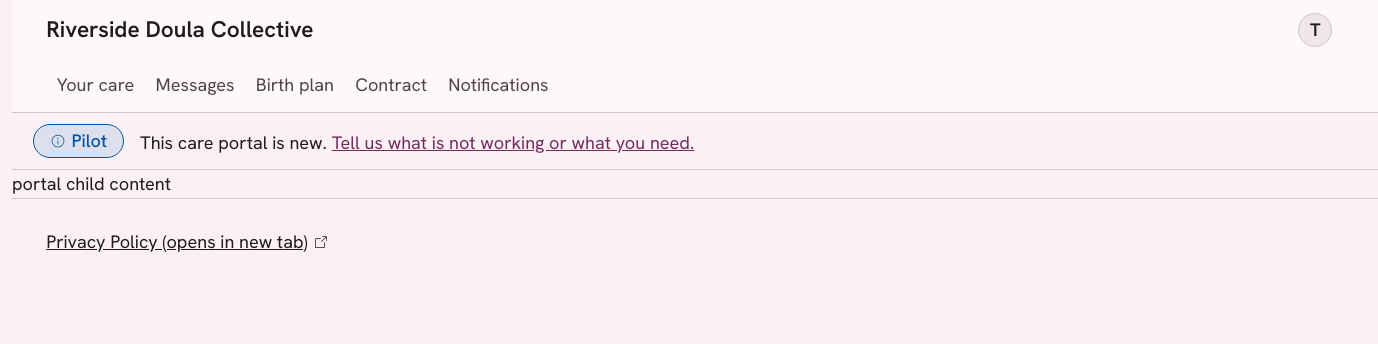
Client portal authenticated layout › stays put and reports a sign-out that failed
Click the button named "Your account, Tasha Bell".
click(1315, 30)  # box [1287, 7, 1344, 53]
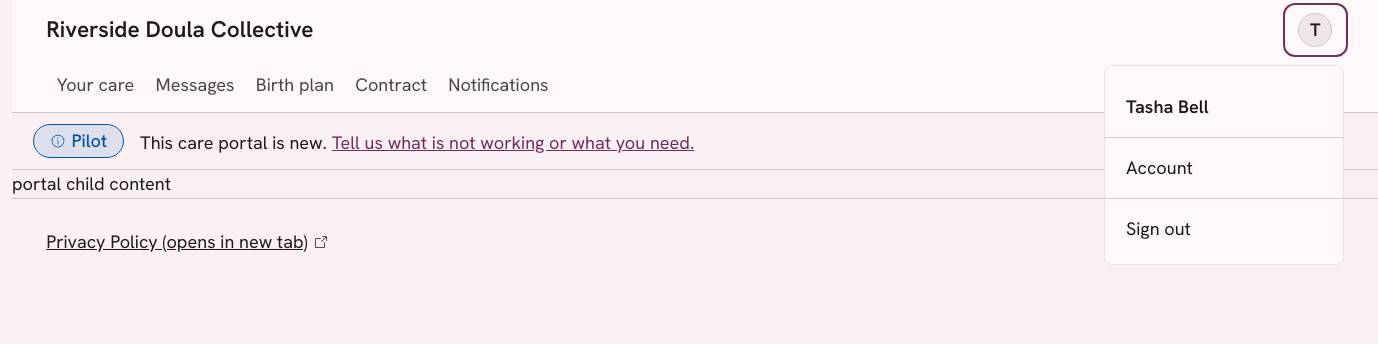
Click the button "Sign out".
click(1224, 229)  # box [1105, 204, 1343, 253]
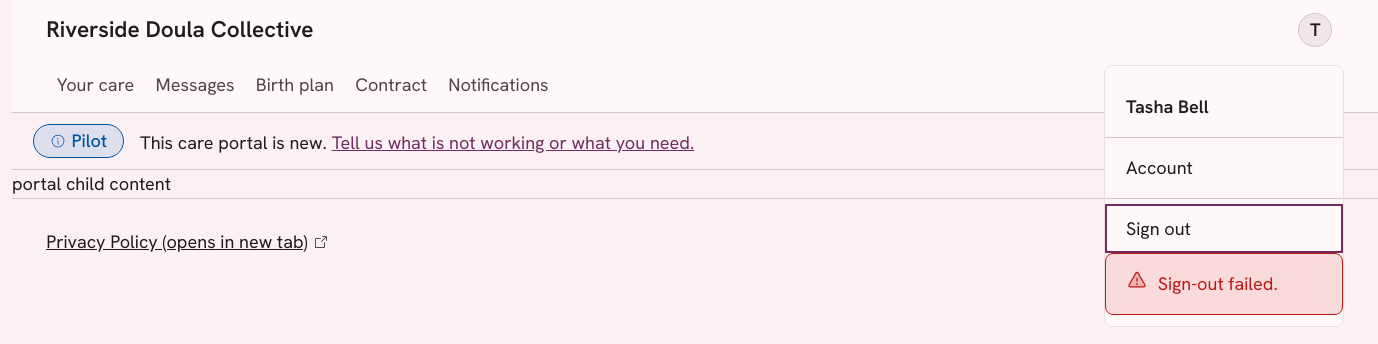
expect the message reads "Sign-out failed.": met, box [1158, 272, 1278, 295]
